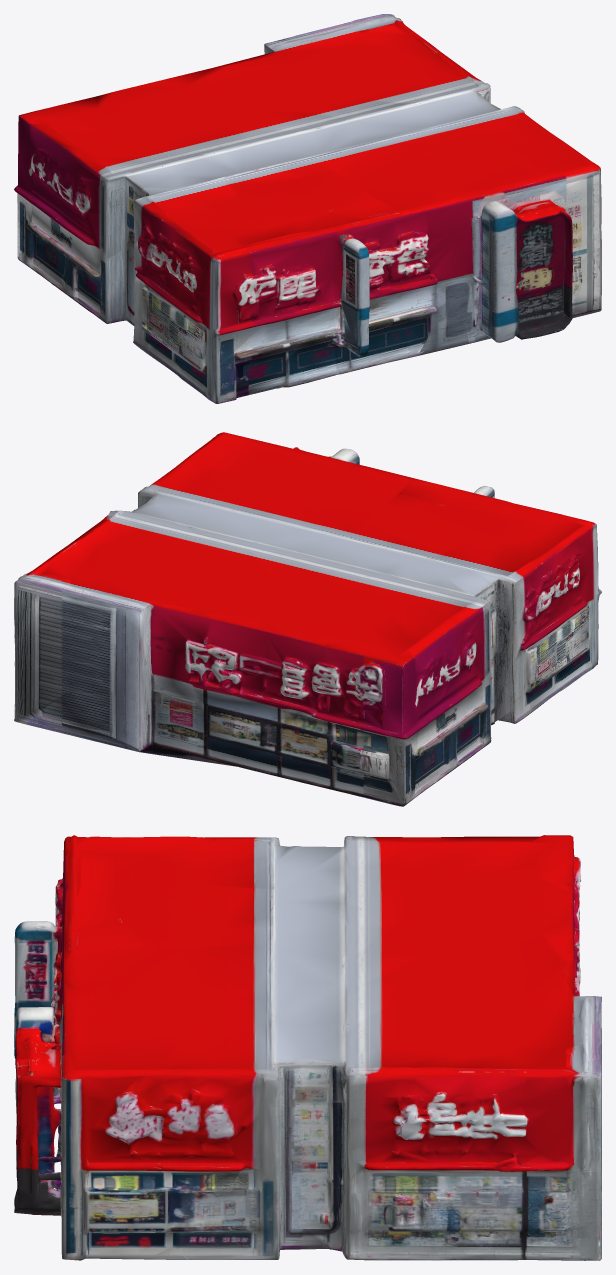
The model's file is ximen_storefront_facade_01.glb.
The picture shows the model from 3 angles, top to bottom: view 1: azimuth 30°, elevation 25°; view 2: azimuth 150°, elevation 25°; view 3: azimuth 270°, elevation 25°; orthographic projection. The views are drawn at different scales.
Bounding box in the file's own units: 2 × 0.7135 × 2.
1 material, 1 textured.
